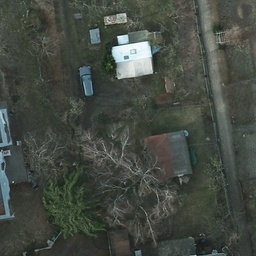car: (75, 66, 98, 98)
